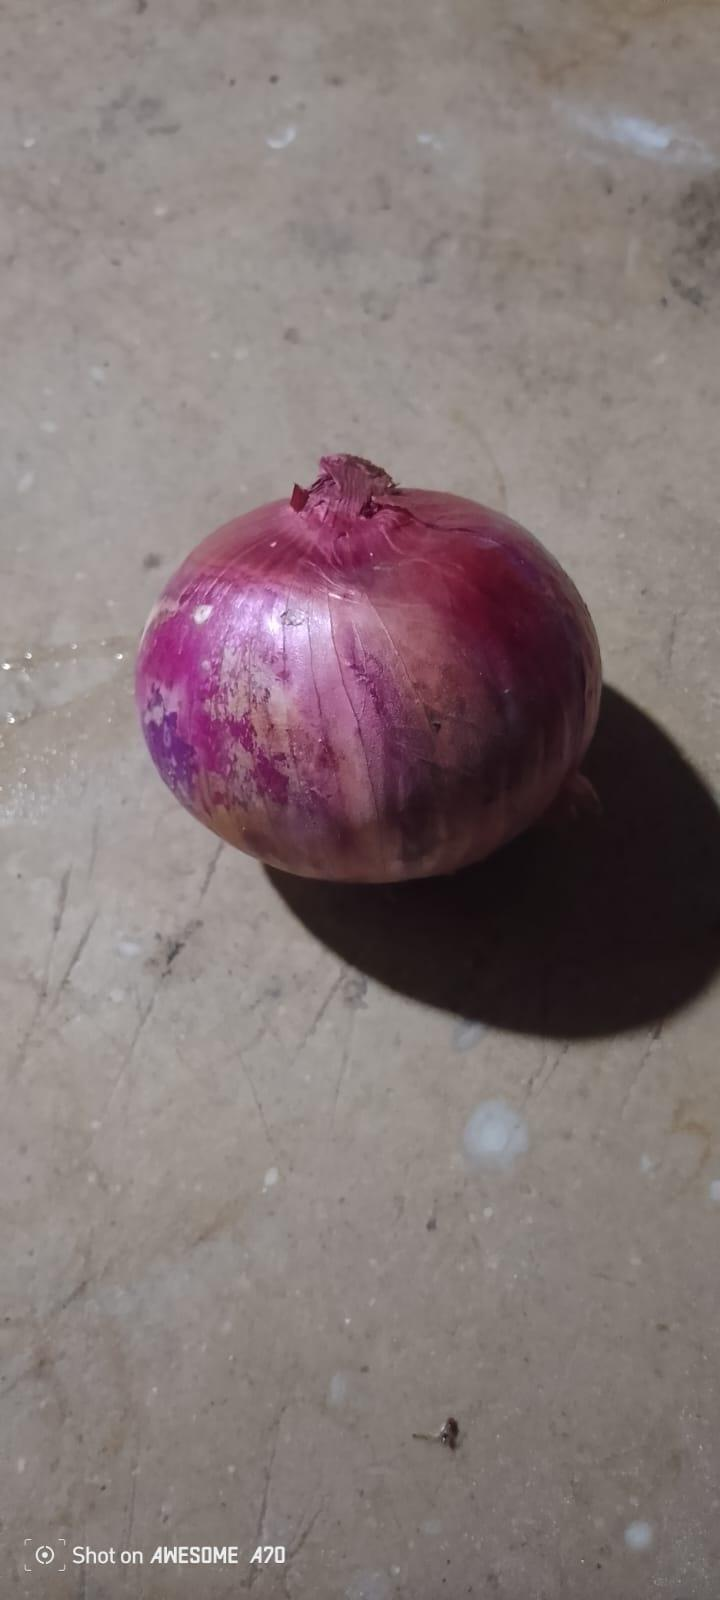non-mango: (120, 447, 617, 901)
